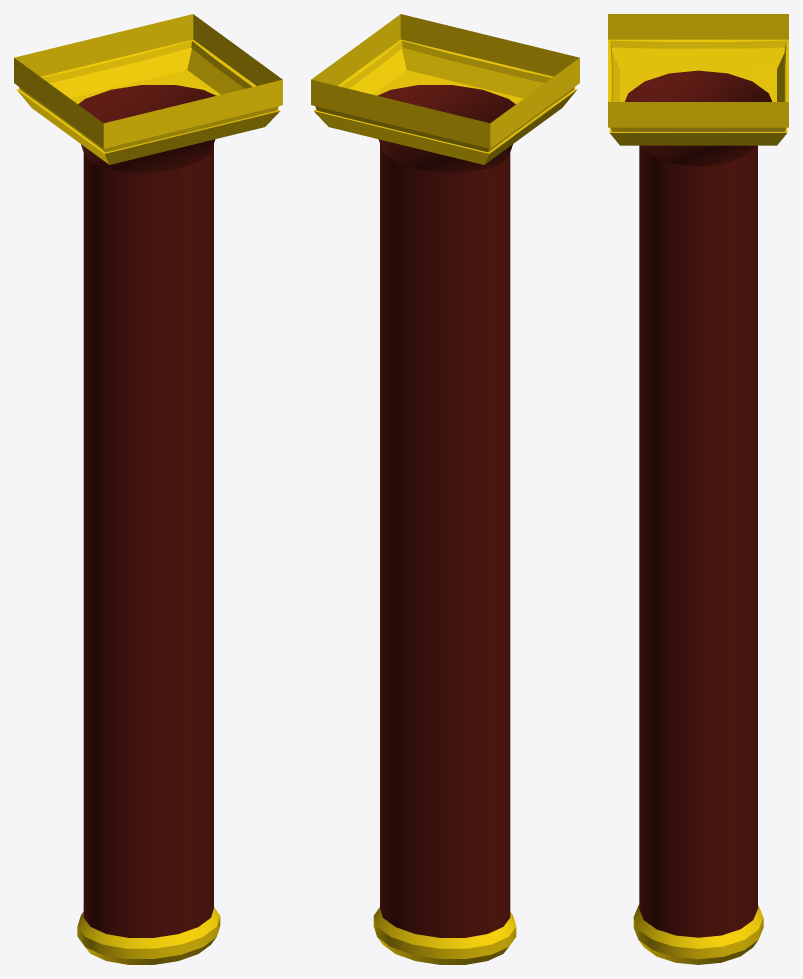
Rendered from Pillar2.fbx.
The picture shows the model from 3 angles, left to right: view 1: azimuth 30°, elevation 25°; view 2: azimuth 150°, elevation 25°; view 3: azimuth 270°, elevation 25°; orthographic projection.
Parts seen in each view (by area): view 1: Columna9.001; view 2: Columna9.001; view 3: Columna9.001.
Part boxes in pixels (x1=…): Columna9.001: x1=14, y1=14, x2=282, y2=964; Columna9.001: x1=311, y1=14, x2=579, y2=964; Columna9.001: x1=608, y1=14, x2=788, y2=964.
Size of the model in its own units: 68.98 by 321 by 59.82.
